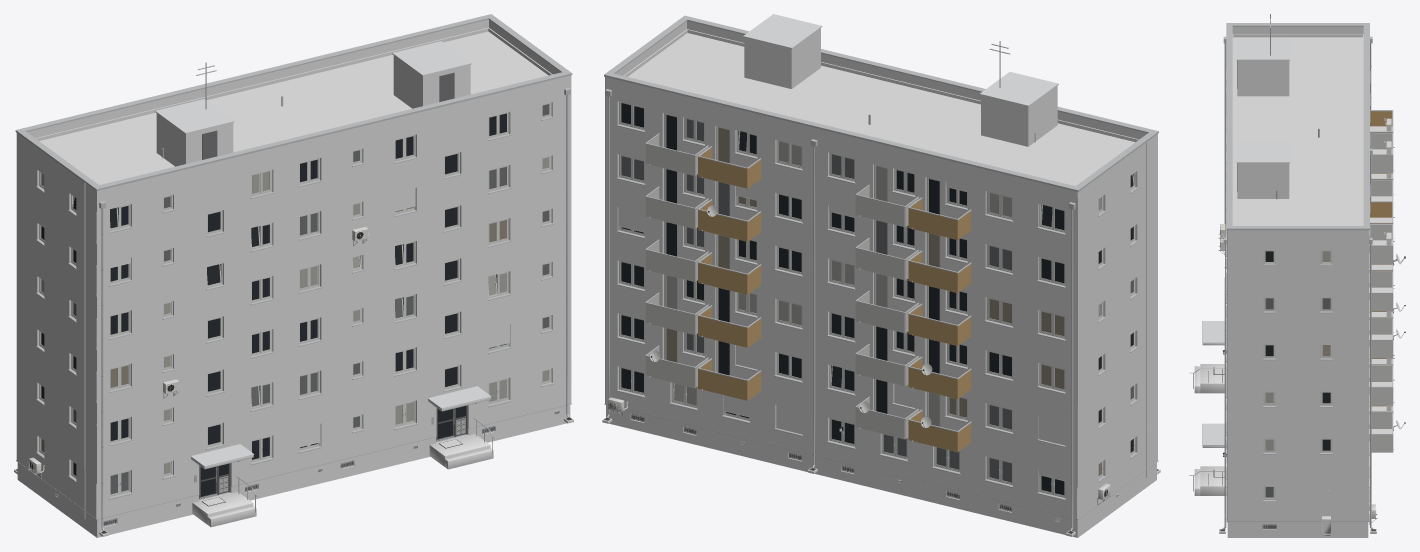
The model's file is cell_m2_1.lite.glb.
3 views of the same model, side by side, from view 1: azimuth 30°, elevation 25°; view 2: azimuth 150°, elevation 25°; view 3: azimuth 270°, elevation 25° (orthographic). The views are drawn at different scales.
Visible parts, largest first — view 1: cell_m2_1; view 2: cell_m2_1; view 3: cell_m2_1.
Part boxes in pixels (left/top/right/bottom): cell_m2_1: left=14, top=14, right=573, bottom=537; cell_m2_1: left=602, top=14, right=1160, bottom=537; cell_m2_1: left=1189, top=14, right=1405, bottom=537.
Size of the model in its own units: 28.94 by 23.98 by 12.47.
